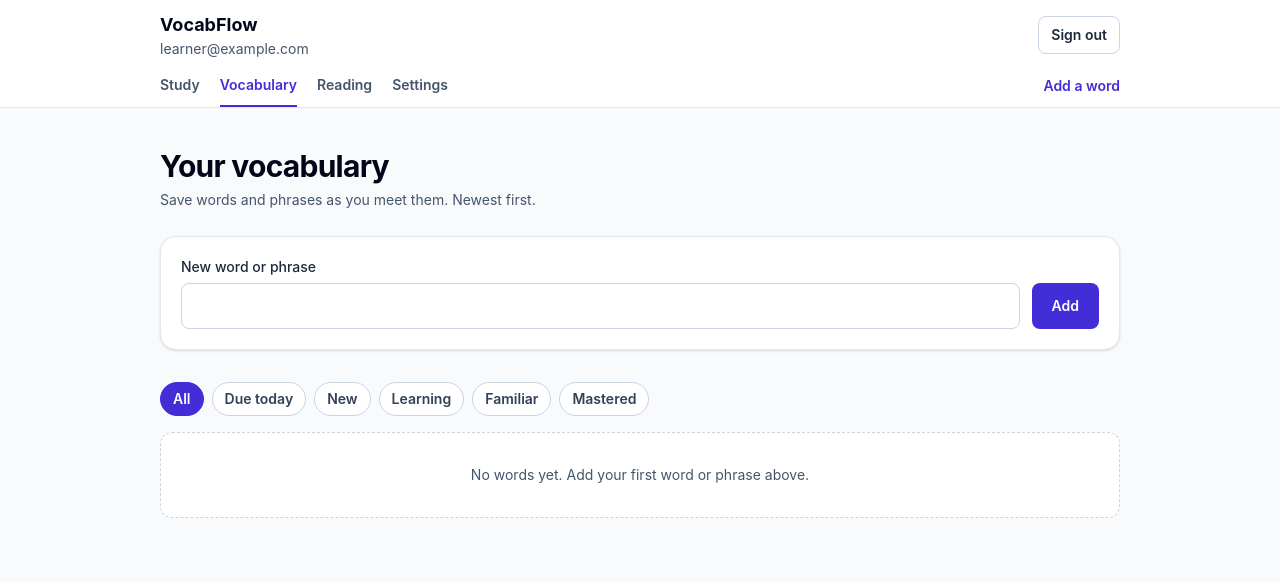
Scenario: ties a form error to the field it is about
This screenshot has width=1280, height=583.
Click the button "Add" at x=1065, y=306, box [1032,283,1099,329]
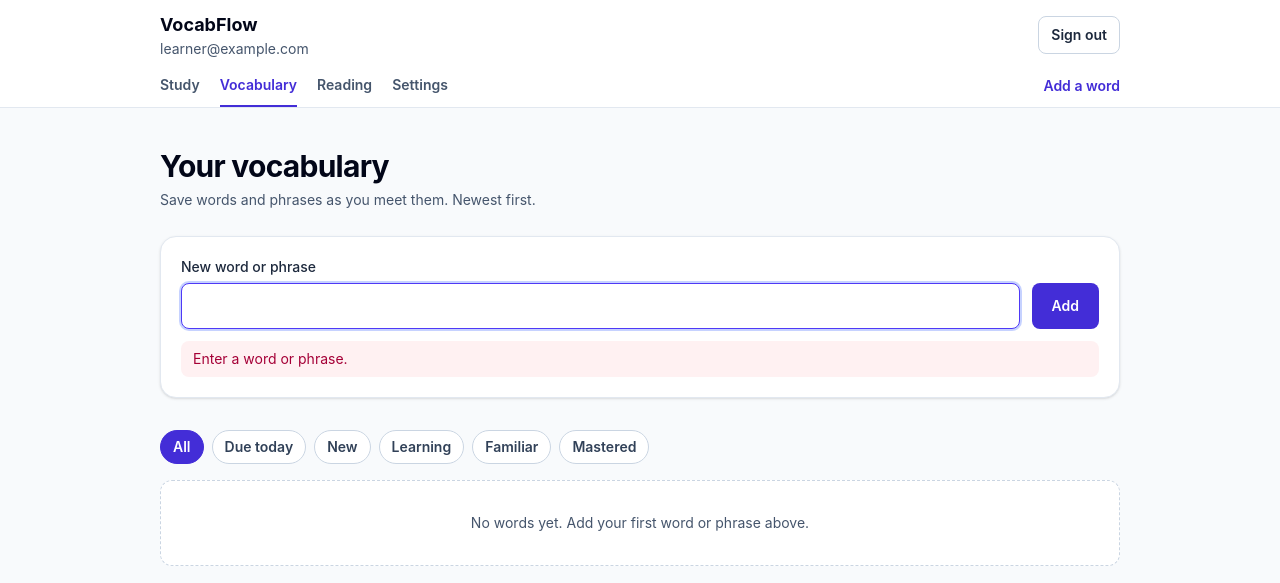
Expected: the message reads "Enter a word or phrase.", [193,350,348,367]
